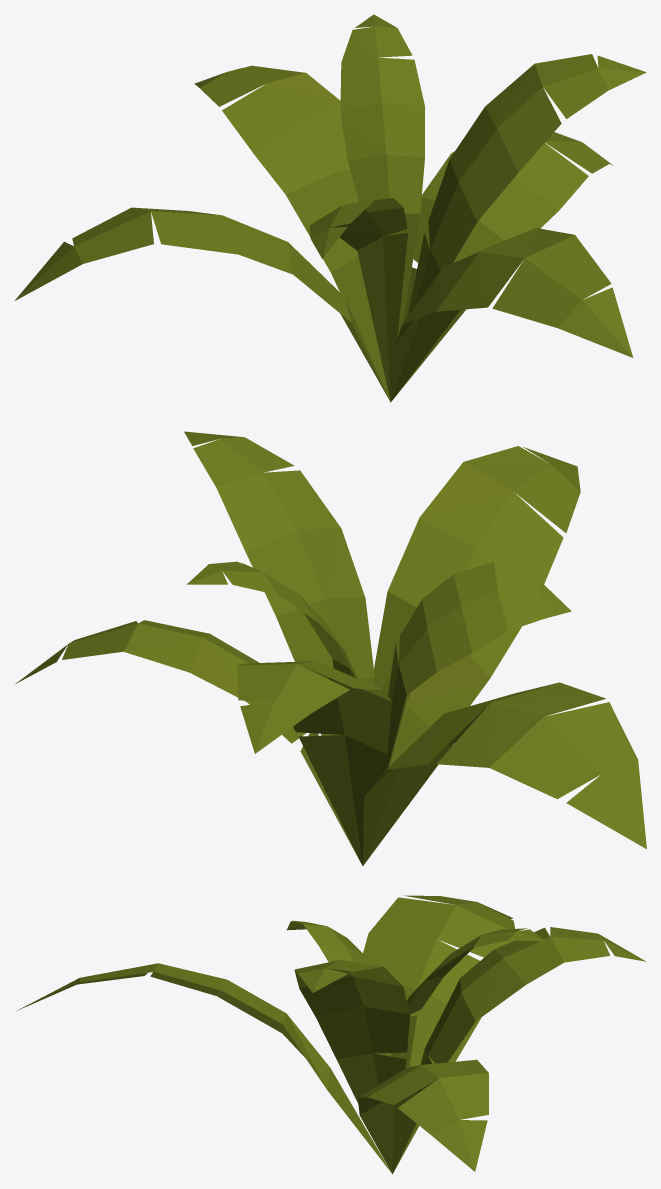
File: Plant_11.fbx
The picture shows the model from 3 angles, top to bottom: view 1: azimuth 30°, elevation 25°; view 2: azimuth 150°, elevation 25°; view 3: azimuth 270°, elevation 25°; orthographic projection. The views are drawn at different scales.
Parts seen in each view (by area): view 1: Plant_11; view 2: Plant_11; view 3: Plant_11.
Boxes of the visible parts, x1,y1,x2,y2 form: Plant_11: [15, 14, 646, 402]; Plant_11: [15, 431, 646, 865]; Plant_11: [17, 895, 646, 1173].
Bounding box in the file's own units: 0.6223 × 0.3249 × 0.6714.
